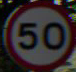Speed limit: (4, 4, 70, 65)
